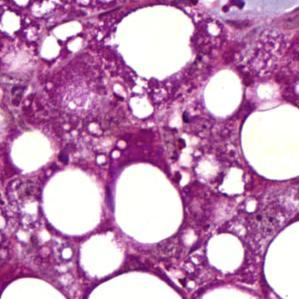steatosis: (107, 3, 201, 78), (110, 163, 188, 240), (39, 167, 103, 239), (205, 68, 242, 120)
